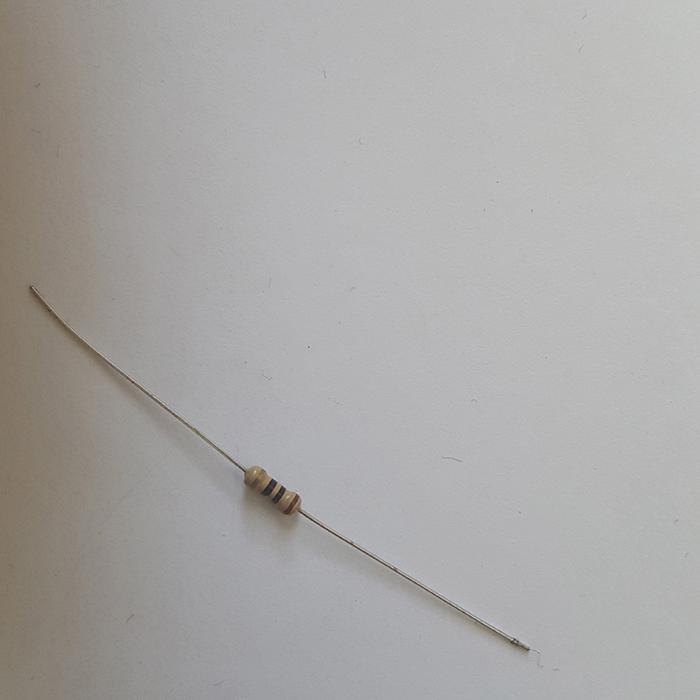resistor: (242, 463, 301, 516)
